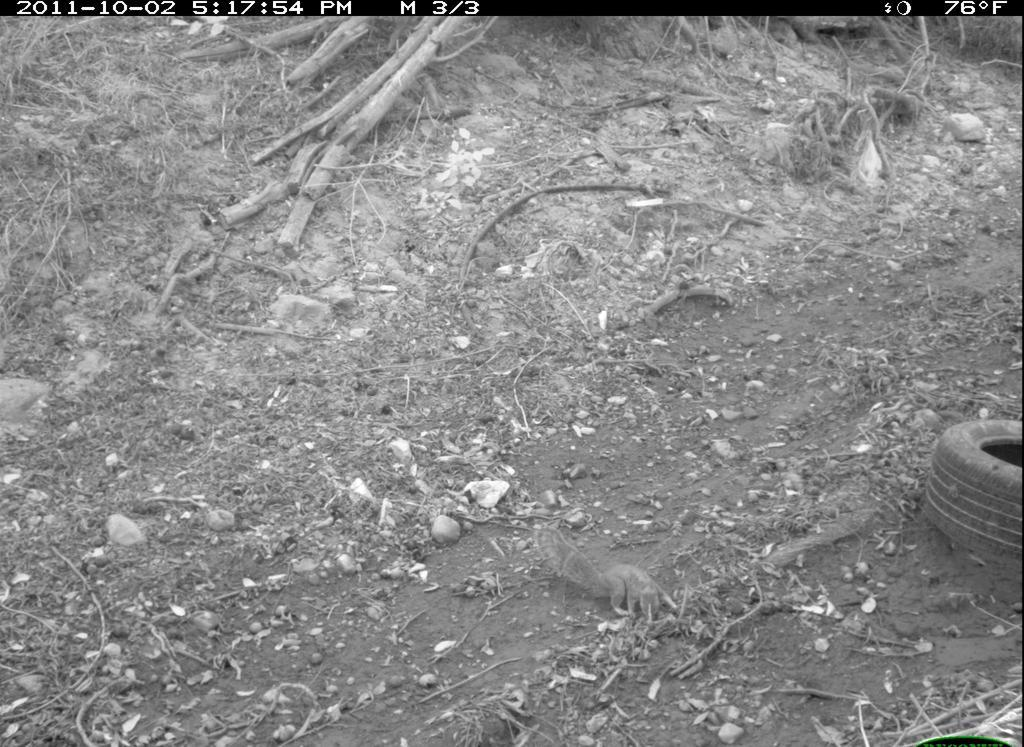squirrel: (527, 520, 682, 636)
